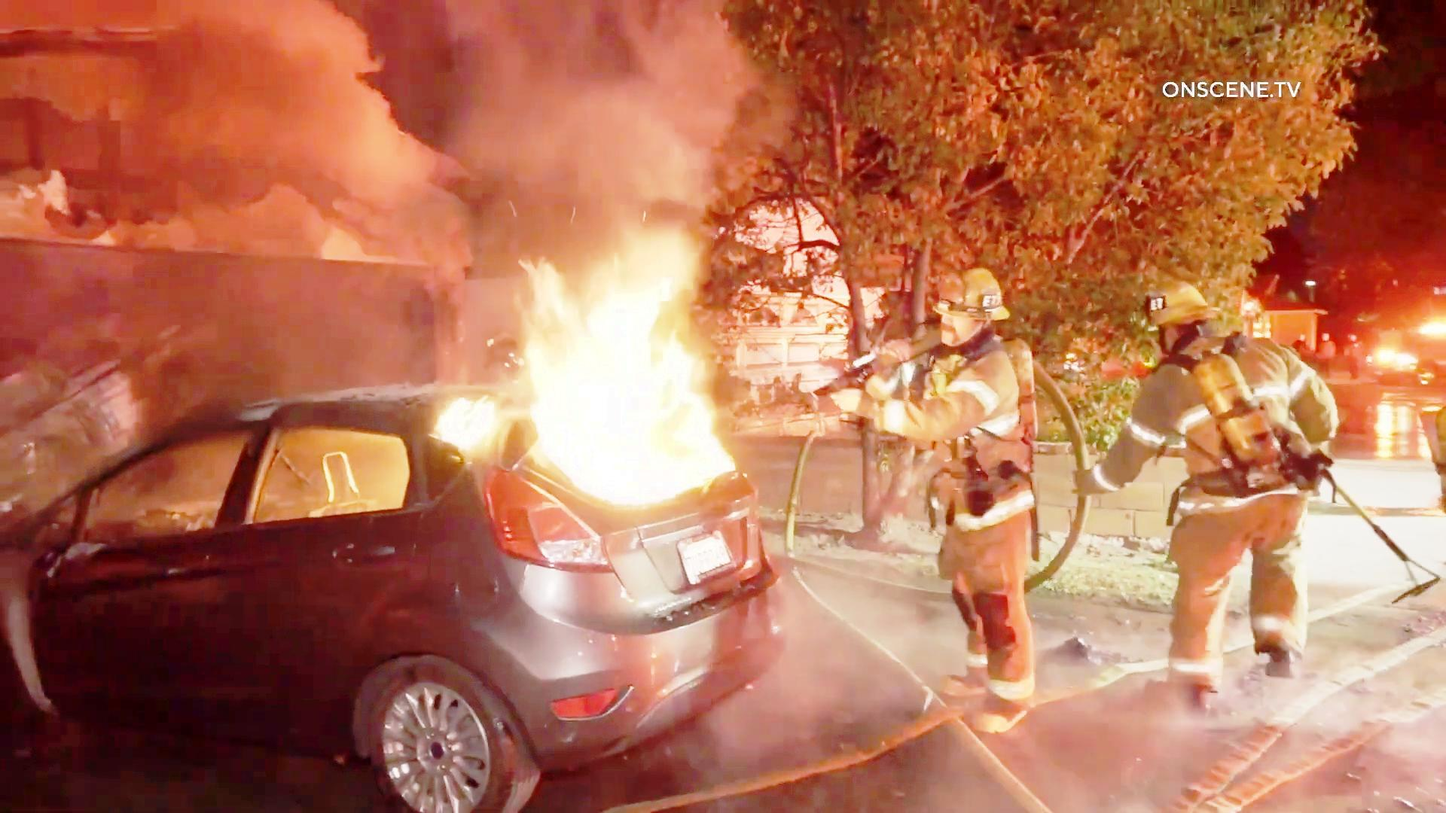fire: (516, 247, 722, 502)
smoke: (448, 0, 667, 221)
